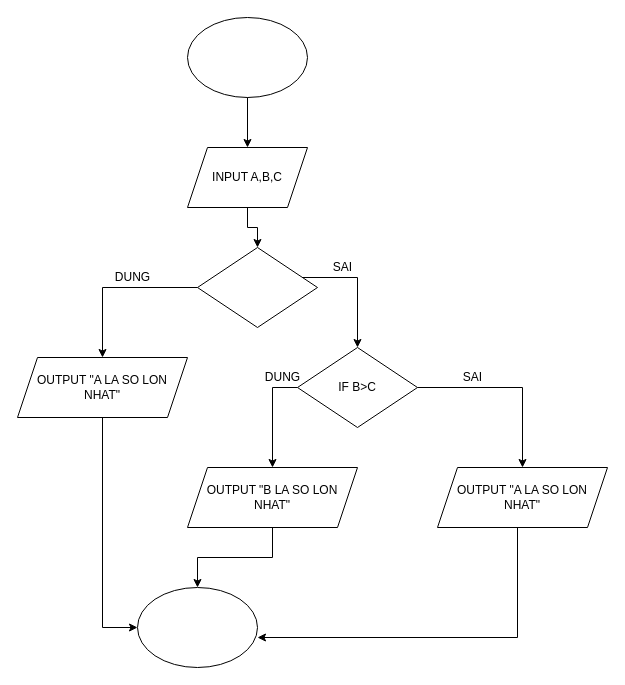
This 625x685 diagram has some shape labels left out. The box of each missing label's shape, as (x1, y1, x2, y2) in pixels:
BEGIN: (186, 16, 308, 98)
END: (136, 586, 258, 668)
IF A>B AND A>C: (196, 246, 318, 328)
